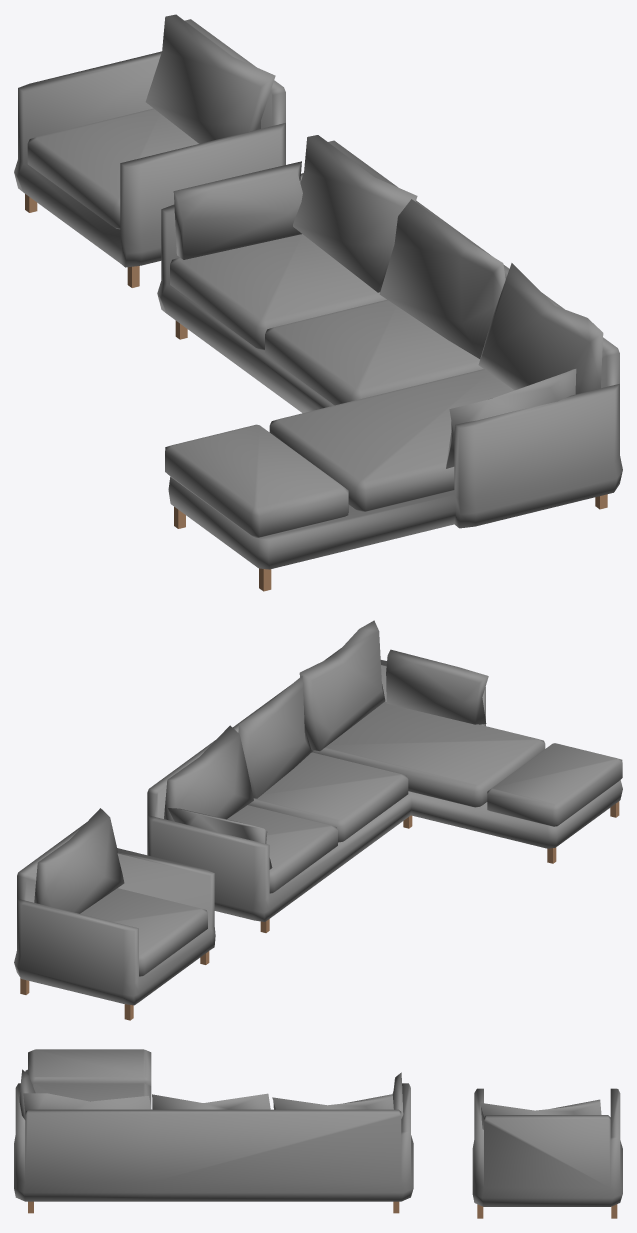
Rendered from Sofas.fbx.
3 views of the same model, one above another, from view 1: azimuth 30°, elevation 25°; view 2: azimuth 150°, elevation 25°; view 3: azimuth 270°, elevation 25° (orthographic). The views are drawn at different scales.
Visible parts, largest first — view 1: Cube.001, Cube.003, Cube.012, Cube.005, Cube.010, Cube.009, Cube.007, Cube.008, Cube.004, Cube.002; view 2: Cube.001, Cube.003, Cube.012, Cube.007, Cube.009, Cube.002, Cube.005, Cube.010, Cube.008, Cube.004; view 3: Cube.003, Cube.012, Cube.001, Cube.007, Cube.005, Cube.010, Cube.009, Cube.002, Cube.004.
Part boxes in pixels (left/top/right/bottom): Cube.001: left=165, top=234, right=514, bottom=537; Cube.003: left=157, top=140, right=622, bottom=569; Cube.012: left=14, top=19, right=285, bottom=267; Cube.005: left=379, top=199, right=505, bottom=358; Cube.010: left=293, top=135, right=417, bottom=292; Cube.009: left=145, top=14, right=275, bottom=143; Cube.007: left=478, top=263, right=603, bottom=394; Cube.008: left=27, top=108, right=198, bottom=229; Cube.004: left=173, top=161, right=302, bottom=259; Cube.002: left=446, top=369, right=576, bottom=468; Cube.001: left=227, top=701, right=622, bottom=893; Cube.003: left=147, top=648, right=622, bottom=921; Cube.012: left=14, top=822, right=215, bottom=1005; Cube.007: left=299, top=620, right=385, bottom=751; Cube.009: left=34, top=808, right=124, bottom=913; Cube.002: left=386, top=649, right=488, bottom=724; Cube.005: left=238, top=676, right=311, bottom=798; Cube.010: left=164, top=725, right=253, bottom=821; Cube.008: left=80, top=888, right=207, bottom=976; Cube.004: left=168, top=808, right=272, bottom=869; Cube.003: left=14, top=1069, right=413, bottom=1201; Cube.012: left=472, top=1088, right=622, bottom=1206; Cube.001: left=28, top=1049, right=151, bottom=1106; Cube.007: left=23, top=1093, right=151, bottom=1112; Cube.005: left=152, top=1093, right=270, bottom=1109; Cube.010: left=272, top=1094, right=393, bottom=1109; Cube.009: left=480, top=1099, right=601, bottom=1129; Cube.002: left=19, top=1069, right=35, bottom=1119; Cube.004: left=392, top=1072, right=403, bottom=1118.
Size of the model in its own units: 179 by 81.26 by 380.
1 material, 1 textured.
